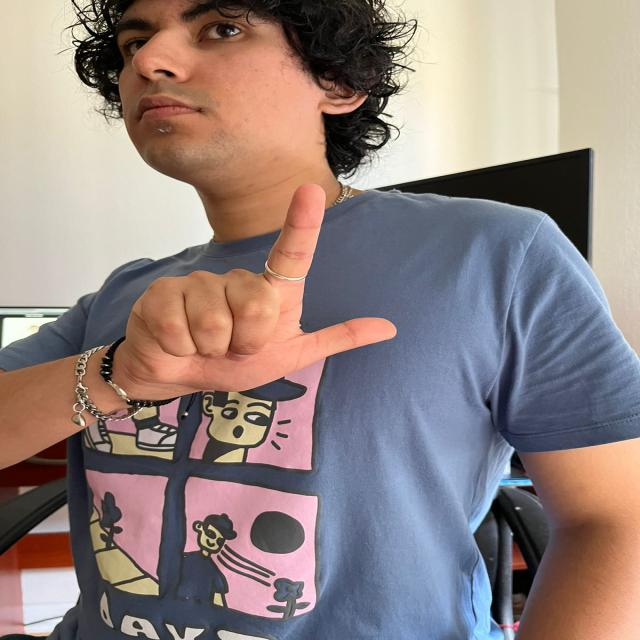L: (131, 180, 416, 398)
